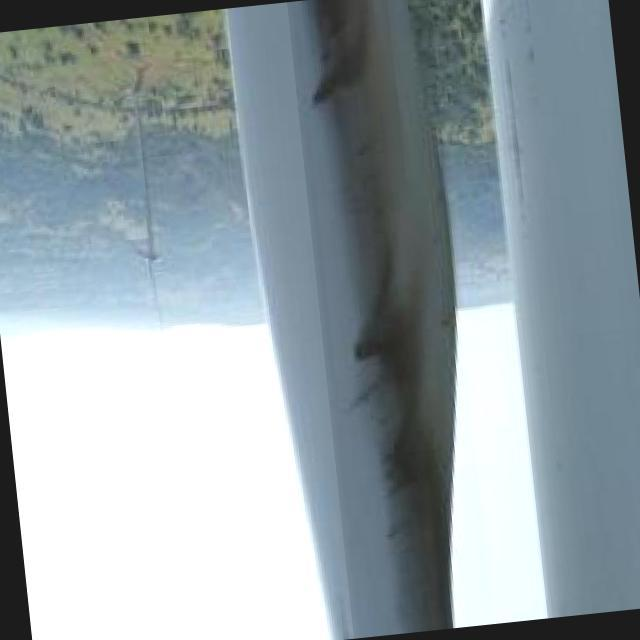Dirt: (305, 0, 460, 640)
Pin Hole: (310, 84, 326, 108), (354, 338, 369, 361), (315, 50, 333, 67), (440, 318, 454, 332)
